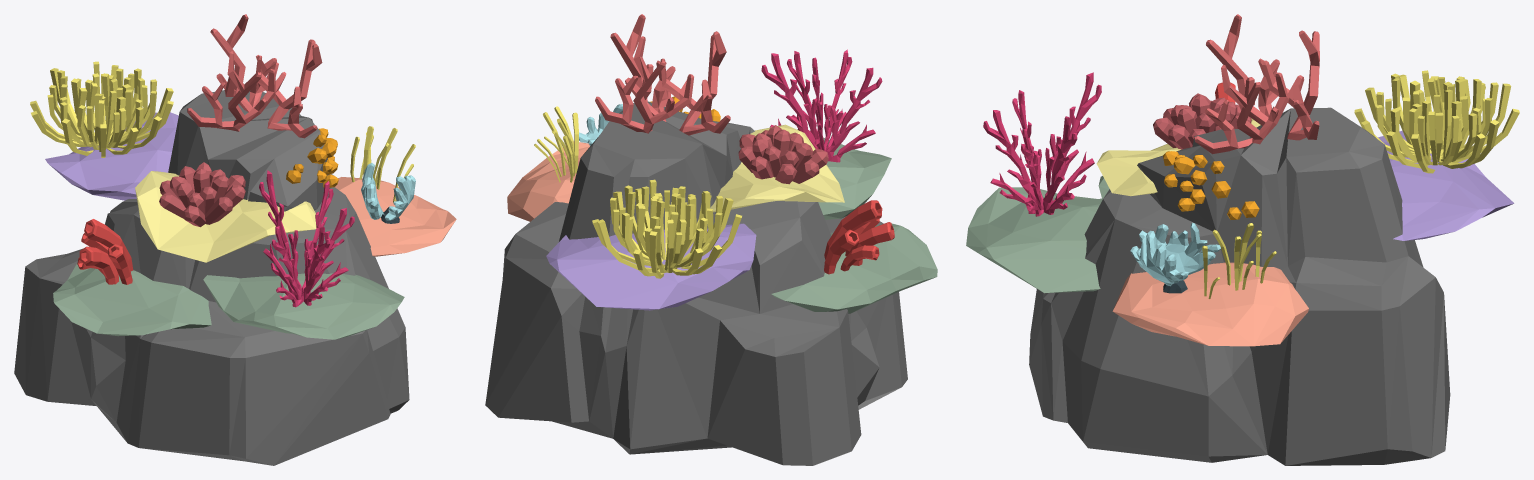
The model's file is Coral_reef_006.glb.
3 views of the same model, side by side, from view 1: azimuth 30°, elevation 25°; view 2: azimuth 150°, elevation 25°; view 3: azimuth 270°, elevation 25° (orthographic). The views are drawn at different scales.
Visible parts, largest first — view 1: Coral_reef_006; view 2: Coral_reef_006; view 3: Coral_reef_006.
Part boxes in pixels (x1,y1,x2,y2): Coral_reef_006: (14, 14, 456, 465); Coral_reef_006: (485, 14, 937, 465); Coral_reef_006: (966, 14, 1519, 465).
Size of the model in its own units: 3.73 by 3.2 by 4.1.
1 material, 1 textured.
